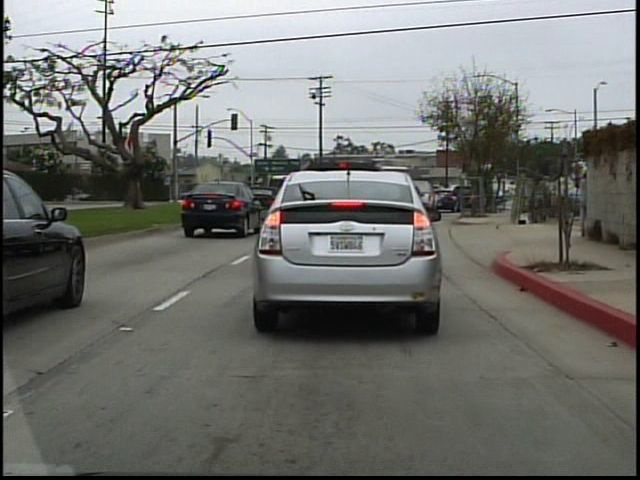person: (571, 162, 595, 244)
